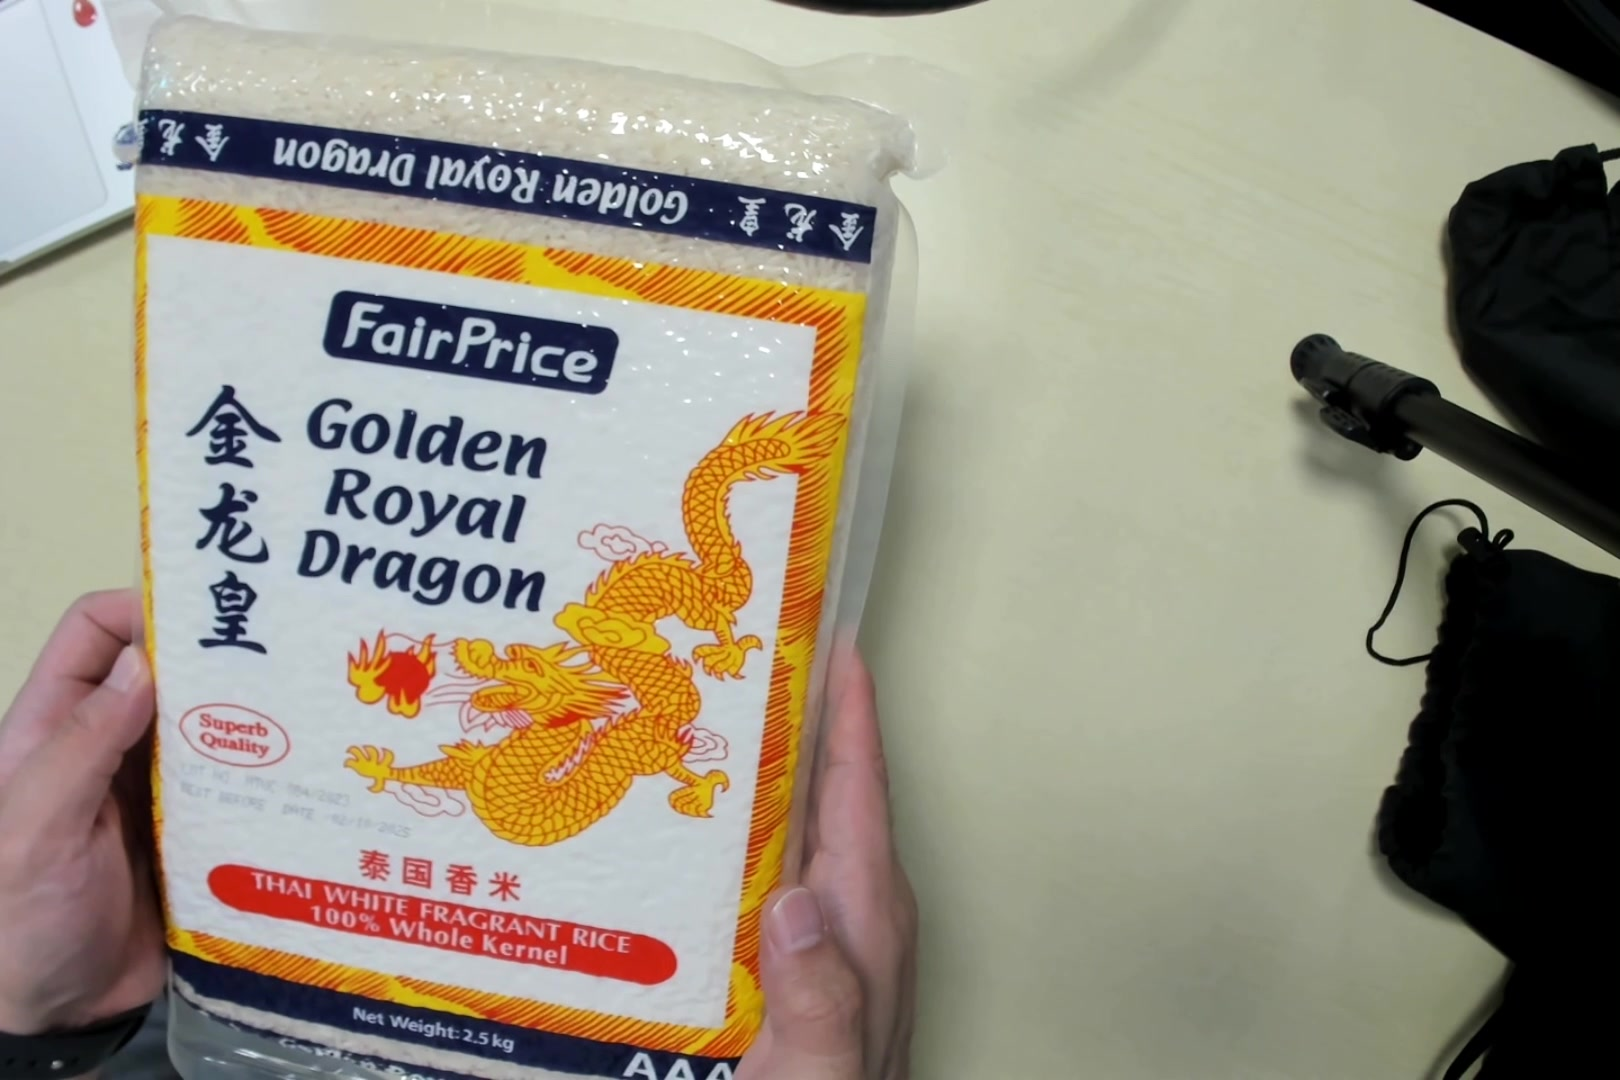Rice(White)_2000-2999g_NonHalal_NonHealthy: (130, 19, 884, 1080)
